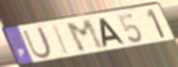1: (146, 7, 168, 39)
5: (116, 12, 144, 44)
A: (99, 18, 127, 49)
I: (52, 24, 72, 56)
M: (64, 18, 107, 54)
U: (21, 26, 54, 61)
